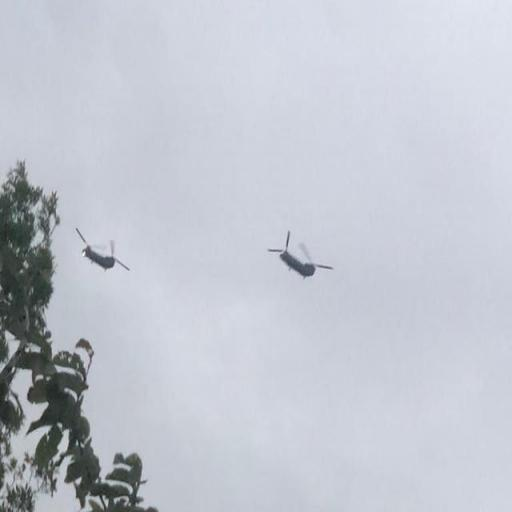helicopter: (269, 213, 335, 299), (69, 221, 133, 290)
